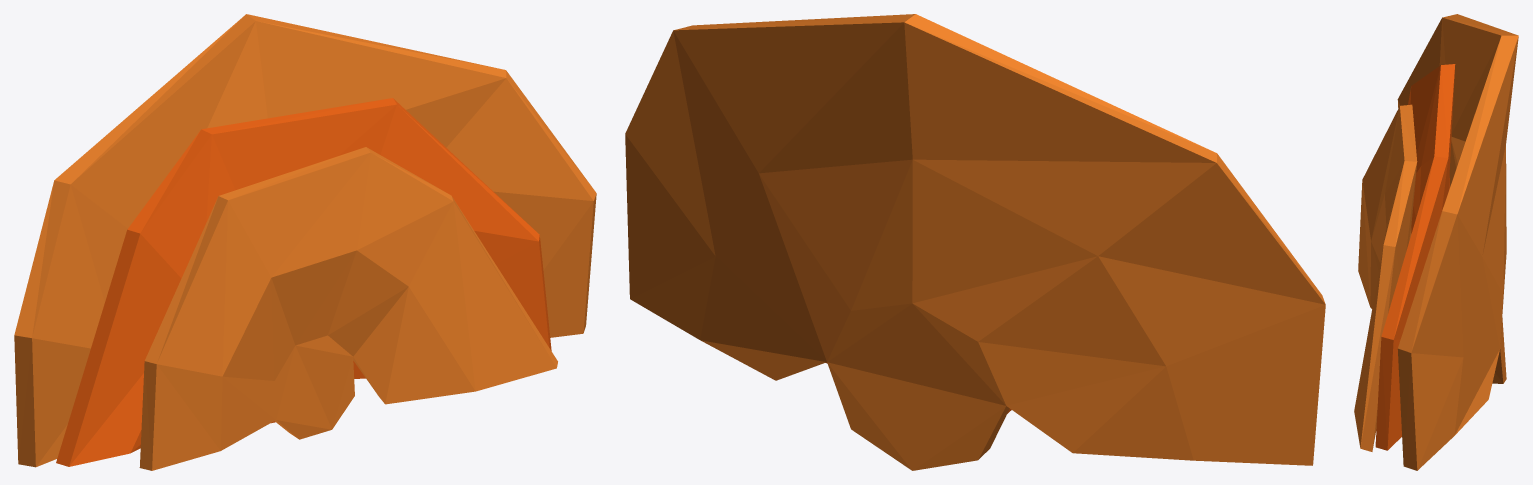
The model's file is CoralOrangeWedge.FBX.
3 renders of one model, left to right at view 1: azimuth 30°, elevation 25°; view 2: azimuth 150°, elevation 25°; view 3: azimuth 270°, elevation 25°, orthographic. The views are drawn at different scales.
Parts seen in each view (by area): view 1: CoralOrangeWedge; view 2: CoralOrangeWedge; view 3: CoralOrangeWedge.
Part boxes in pixels (x1=…): CoralOrangeWedge: x1=14, y1=14, x2=596, y2=470; CoralOrangeWedge: x1=625, y1=14, x2=1325, y2=470; CoralOrangeWedge: x1=1354, y1=14, x2=1518, y2=470.
Size of the model in its own units: 51.11 by 31.68 by 13.76.
